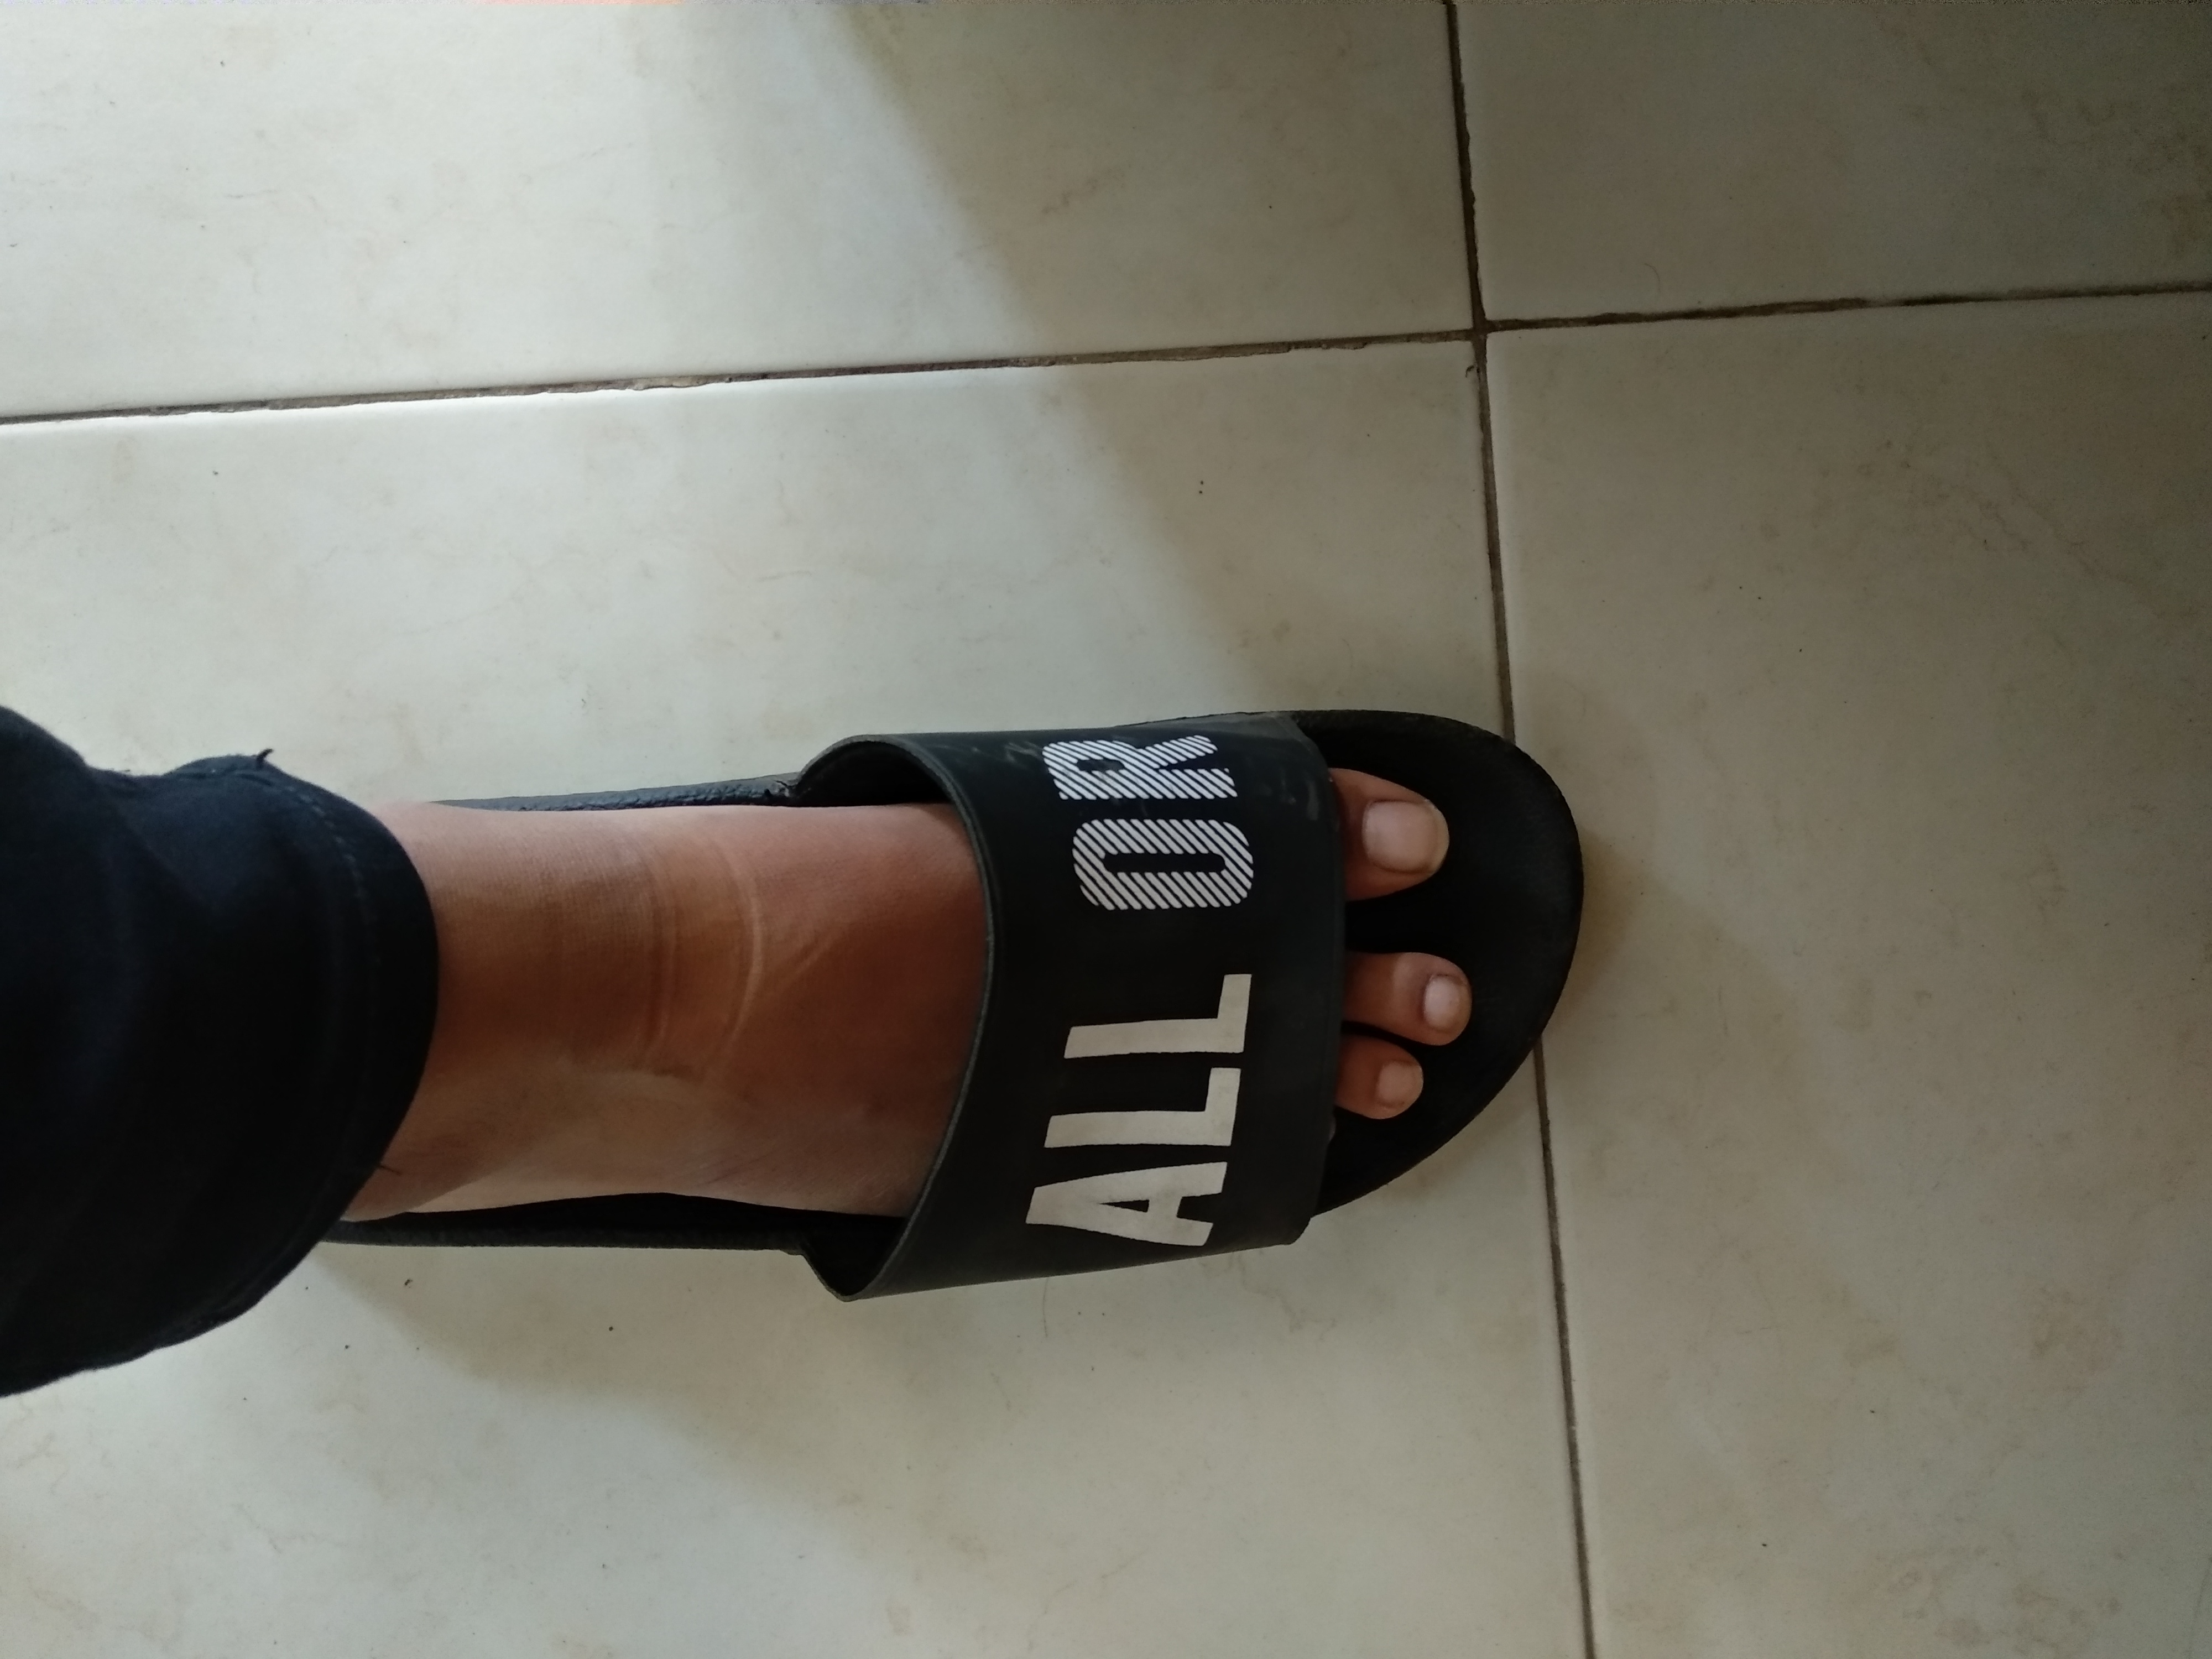feet: (118, 683, 1496, 1253)
